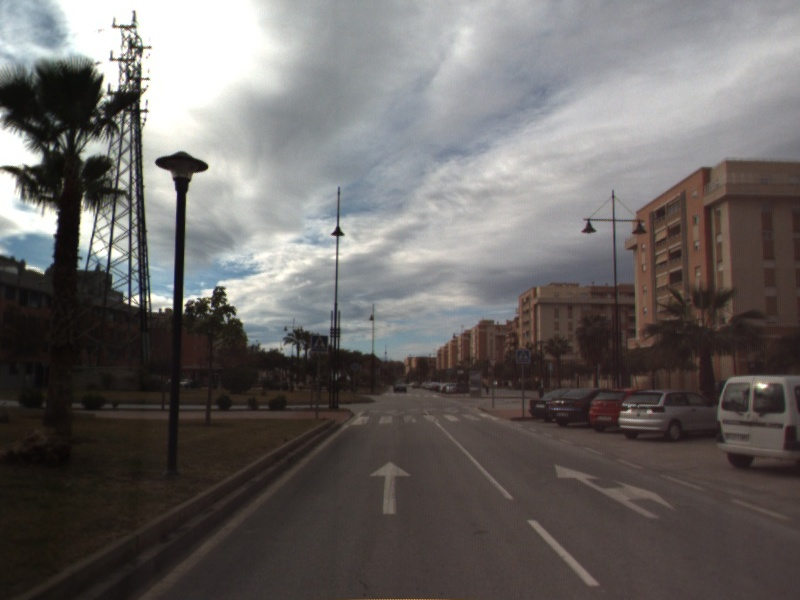STRAIGHT: (368, 459, 413, 516)
STRAIGHT_RIGHT: (552, 462, 678, 521)
